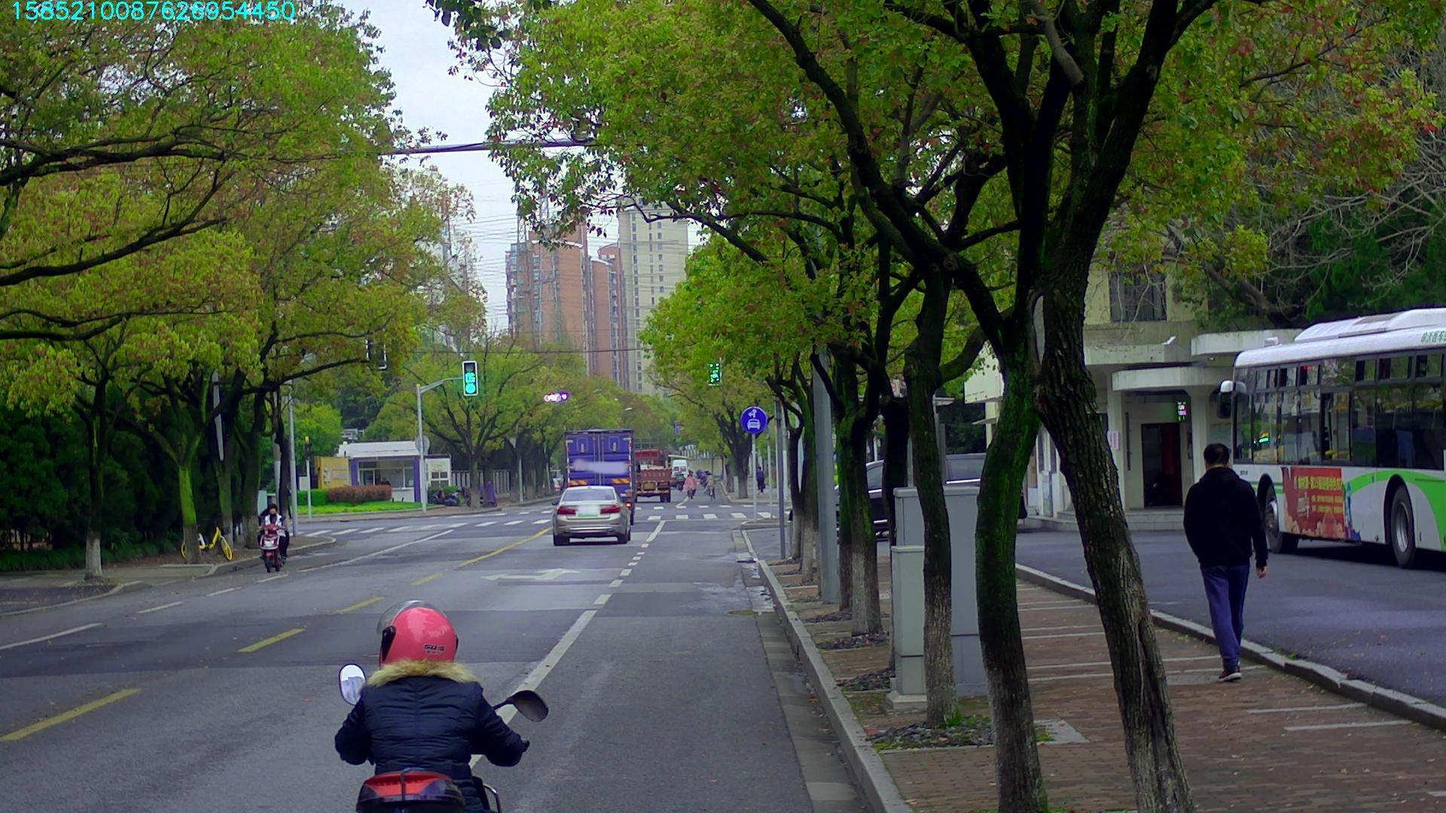green: (707, 352, 720, 385), (463, 361, 476, 394)
